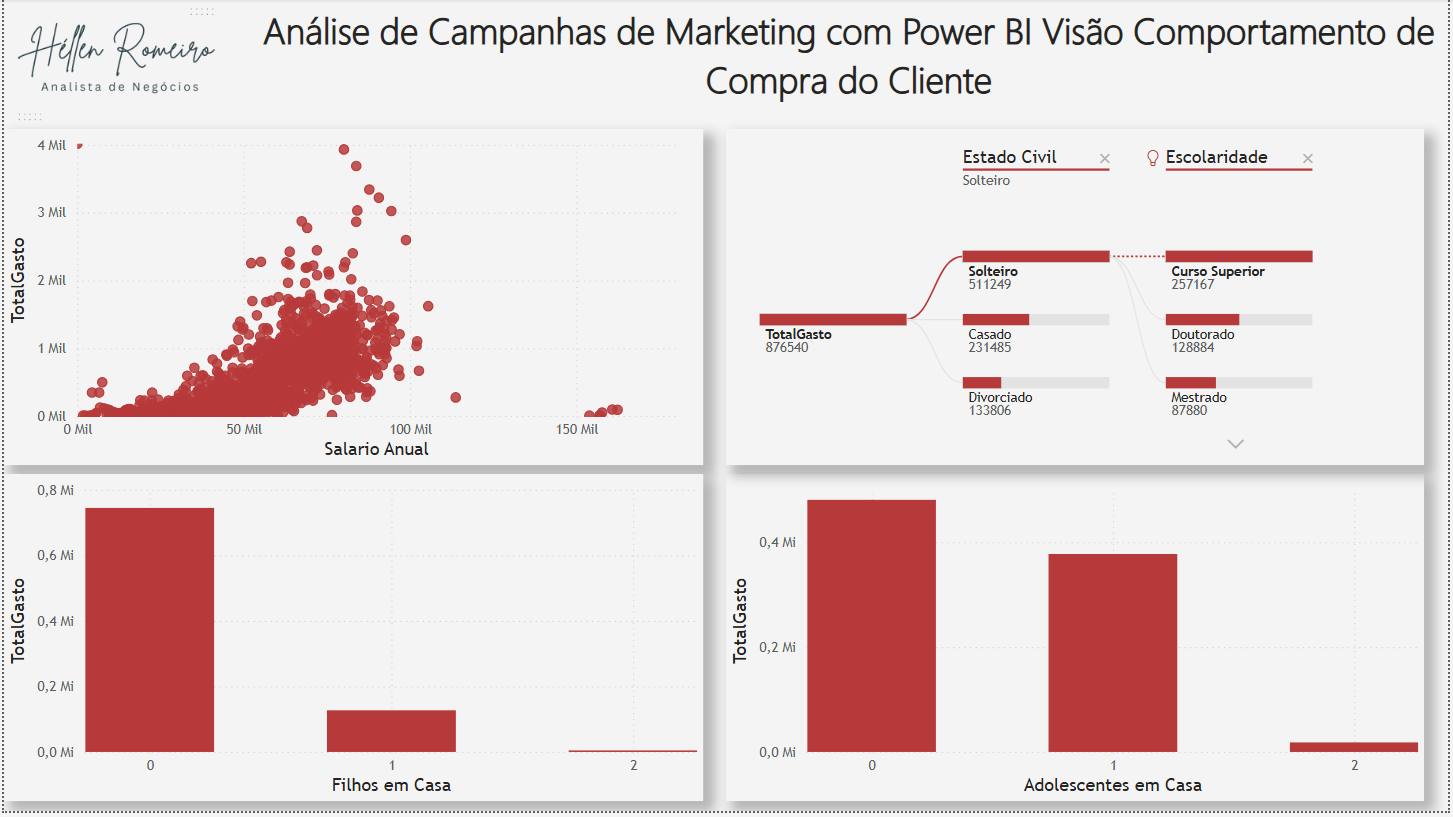

The page's visual inventory and layout, read from the dashboard file:
{"tool":"powerbi","page":{"name":"Visão Comportamento","canvas":[1280,720],"ordinal":1},"visuals":[{"type":"scatterChart","fields":{"X":["dados_marketing.Salario Anual"],"Y":["dados_marketing.TotalGasto"]},"box":[0,115.5,620,298.5],"z":0},{"type":"clusteredColumnChart","fields":{"Y":["dados_marketing.TotalGasto"],"Category":["dados_marketing.Filhos em Casa"]},"box":[0,421,620,290.5],"z":1000},{"type":"clusteredColumnChart","fields":{"Y":["dados_marketing.TotalGasto"],"Category":["dados_marketing.Adolescentes em Casa"]},"box":[640.4,421,619.1,290.5],"z":2000},{"type":"decompositionTreeVisual","fields":{"Analyze":["dados_marketing.TotalGasto"],"ExplainBy":["dados_marketing.Estado Civil","dados_marketing.Escolaridade"]},"box":[640.4,115.5,619.1,298.5],"z":3000},{"type":"textbox","box":[218,0,1062,96.9],"z":4000},{"type":"image","box":[0,0,198.1,115.5],"z":5000}]}

Visuals, with their boxes in screenshot pixels (x1, y1, x2, y2), scaled from the page's 1280x720 canvas onto the 1453x817 screenshot:
scatterChart - dados_marketing.Salario Anual x dados_marketing.TotalGasto: [0,131,704,470]
clusteredColumnChart - dados_marketing.TotalGasto x dados_marketing.Filhos em Casa: [0,478,704,807]
clusteredColumnChart - dados_marketing.TotalGasto x dados_marketing.Adolescentes em Casa: [727,478,1430,807]
decompositionTreeVisual - dados_marketing.TotalGasto x dados_marketing.Estado Civil: [727,131,1430,470]
textbox: [247,0,1452,110]
image: [0,0,225,131]
